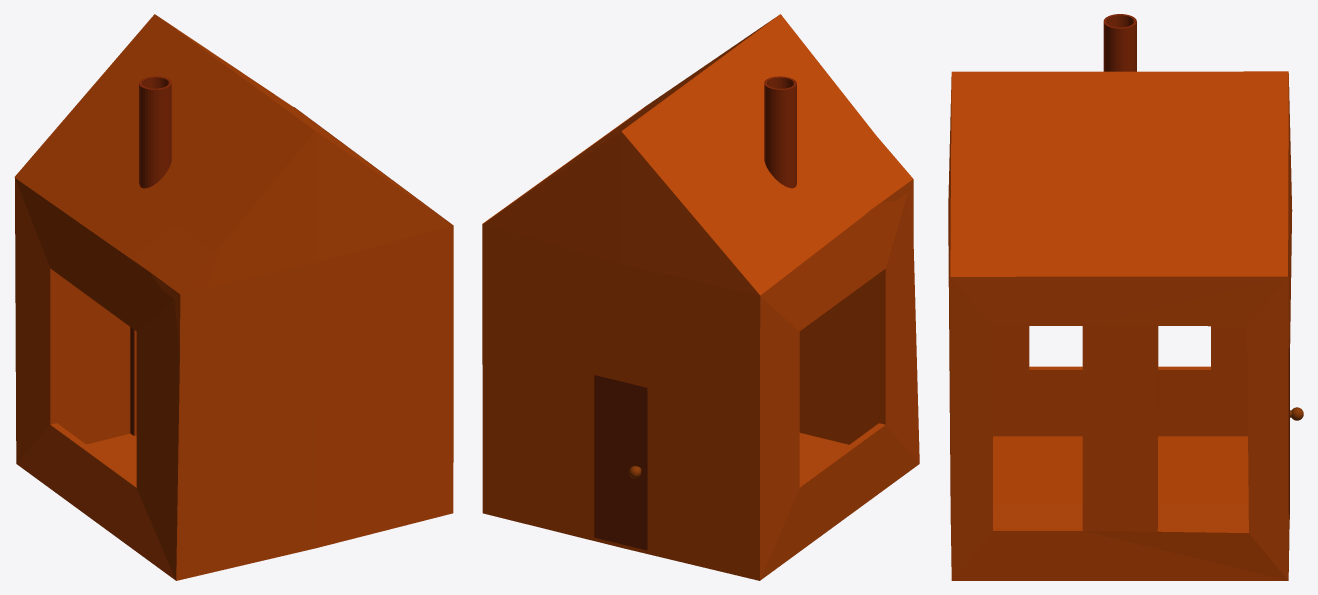
3 views of the same model, side by side, from view 1: azimuth 30°, elevation 25°; view 2: azimuth 150°, elevation 25°; view 3: azimuth 270°, elevation 25° (orthographic). The views are drawn at different scales.
Parts seen in each view (by area): view 1: Cube.001, Cylinder; view 2: Cube.001, Cube, Cylinder; view 3: Cube.001, Cylinder.
Boxes of the visible parts, x1=… form: Cube.001: x1=14, y1=14, x2=453, y2=580; Cylinder: x1=139, y1=76, x2=171, y2=188; Cube.001: x1=482, y1=14, x2=919, y2=580; Cube: x1=594, y1=374, x2=647, y2=550; Cylinder: x1=764, y1=76, x2=796, y2=188; Cube.001: x1=948, y1=71, x2=1292, y2=580; Cylinder: x1=1103, y1=14, x2=1136, y2=71.
Bounding box in the file's own units: 2.12 × 3.05 × 2.19.
